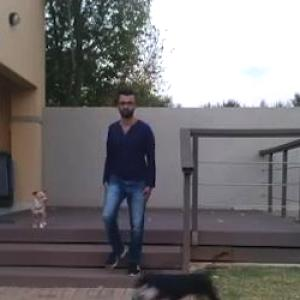follow: (103, 89, 157, 299)
